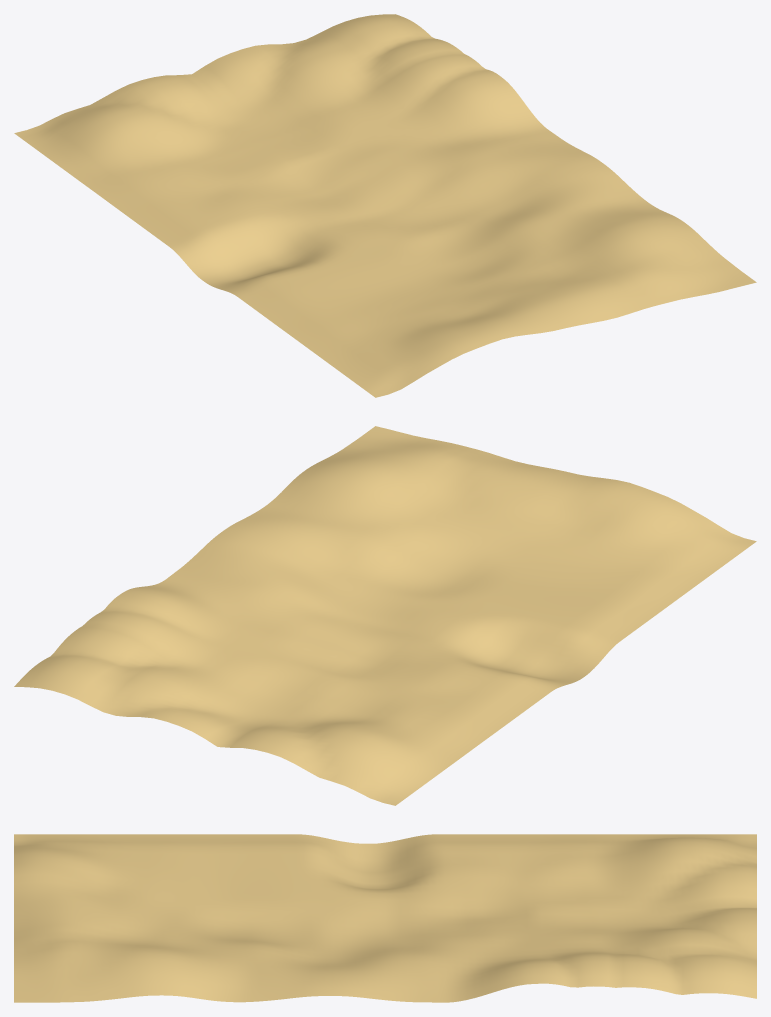
Rendered from beach_incaping_low.fbx.
3 renders of one model, top to bottom at view 1: azimuth 30°, elevation 25°; view 2: azimuth 150°, elevation 25°; view 3: azimuth 270°, elevation 25°, orthographic. The views are drawn at different scales.
Parts seen in each view (by area): view 1: Beach; view 2: Beach; view 3: Beach.
Part boxes in pixels (x1,y1,x2,y2): Beach: (14,14,756,397); Beach: (14,426,756,805); Beach: (14,834,756,1002).
Bounding box in the file's own units: 104 × 14.88 × 171.
